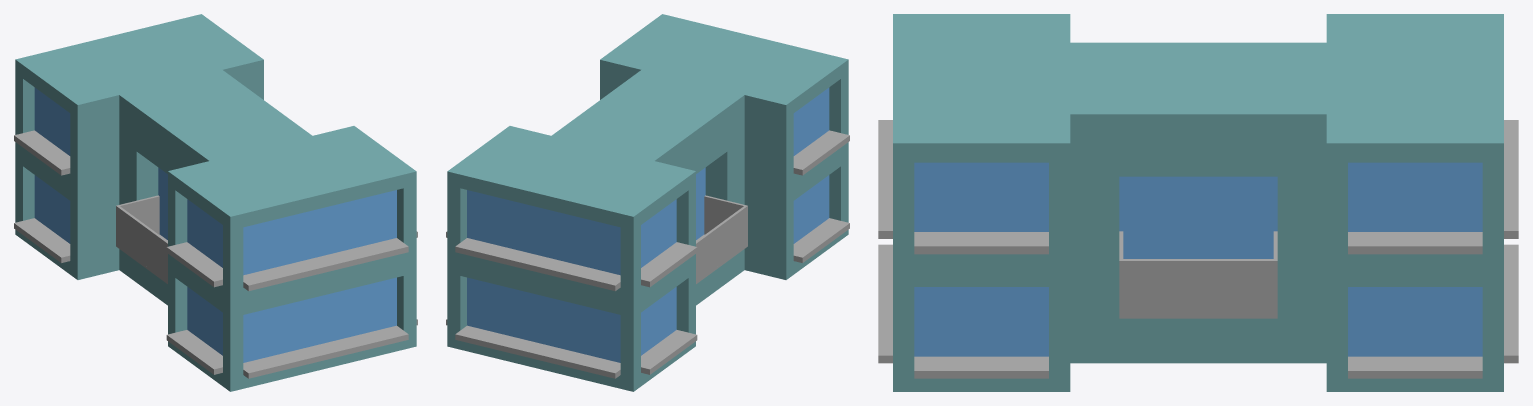
Rendered from building_1x2_5_f.glb.
3 views of the same model, side by side, from view 1: azimuth 30°, elevation 25°; view 2: azimuth 150°, elevation 25°; view 3: azimuth 270°, elevation 25° (orthographic). The views are drawn at different scales.
Parts seen in each view (by area): view 1: Cube.001; view 2: Cube.001; view 3: Cube.001.
Boxes of the visible parts, x1=… form: Cube.001: x1=14, y1=14, x2=417, y2=391; Cube.001: x1=446, y1=14, x2=849, y2=391; Cube.001: x1=878, y1=14, x2=1518, y2=391.
Size of the model in its own units: 1.95 by 1.6 by 3.73.
